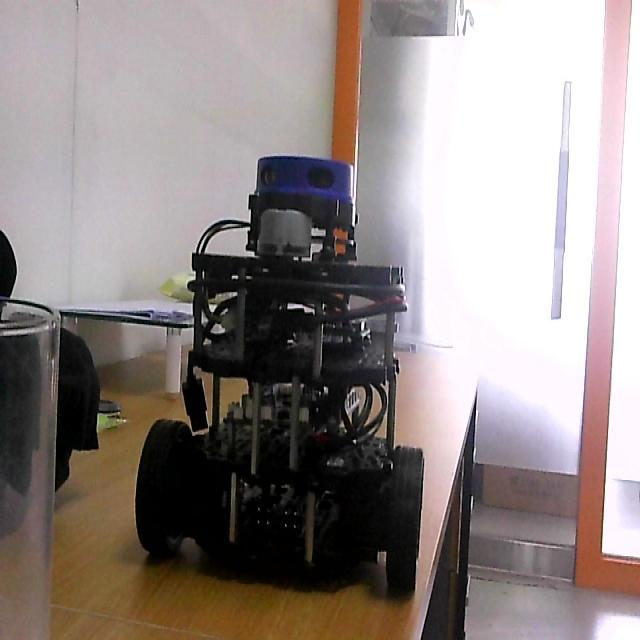turtle: (133, 155, 426, 604)
